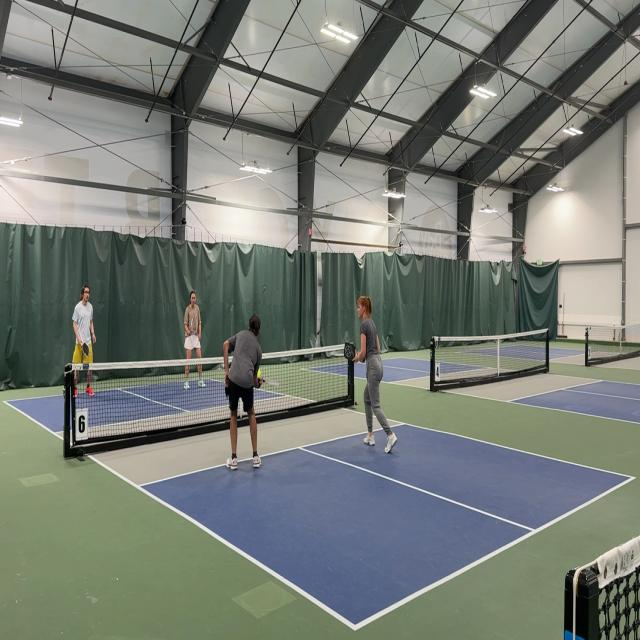ball: (256, 369, 261, 376)
